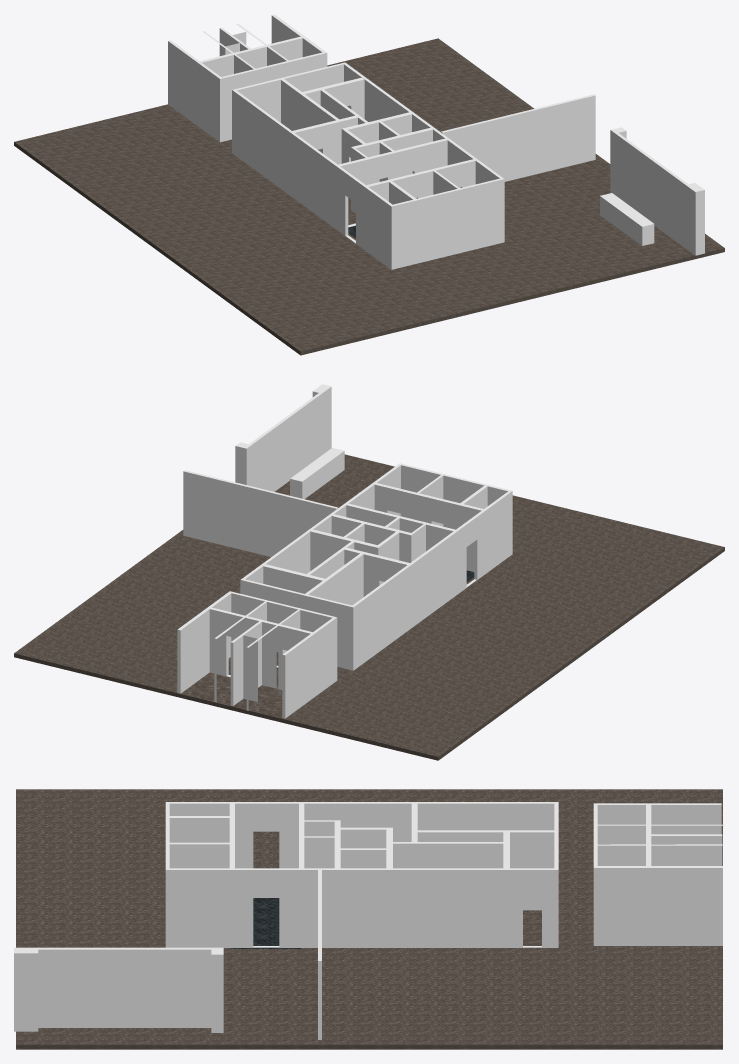
File: inside3zip.glb
3 views of the same model, one above another, from view 1: azimuth 30°, elevation 25°; view 2: azimuth 150°, elevation 25°; view 3: azimuth 270°, elevation 25° (orthographic). The views are drawn at different scales.
Visible parts, largest first — view 1: 底座, 平面间隔, 平面.002, 平面.001, 立方体.022; view 2: 底座, 平面间隔, 平面.002, 平面.001, 底座.002, 立方体.022; view 3: 底座, 平面间隔, 平面.001, 平面.002.
Part boxes in pixels (box(x1,y1,x2,y2)): 底座: box(14, 38, 724, 355); 平面间隔: box(168, 14, 504, 269); 平面.002: box(441, 94, 595, 187); 平面.001: box(610, 127, 704, 255); 立方体.022: box(600, 193, 654, 245); 底座: box(14, 454, 724, 760); 平面间隔: box(177, 463, 512, 718); 平面.002: box(183, 470, 337, 556); 平面.001: box(235, 384, 331, 491); 底座.002: box(178, 657, 282, 718); 立方体.022: box(290, 448, 344, 499); 底座: box(16, 789, 722, 1049); 平面间隔: box(165, 802, 724, 947); 平面.001: box(14, 947, 223, 1032); 平面.002: box(318, 868, 321, 1039).
Size of the model in its own units: 34.7 by 5.36 by 40.83.
Materials: 7 (2 with a texture image).
